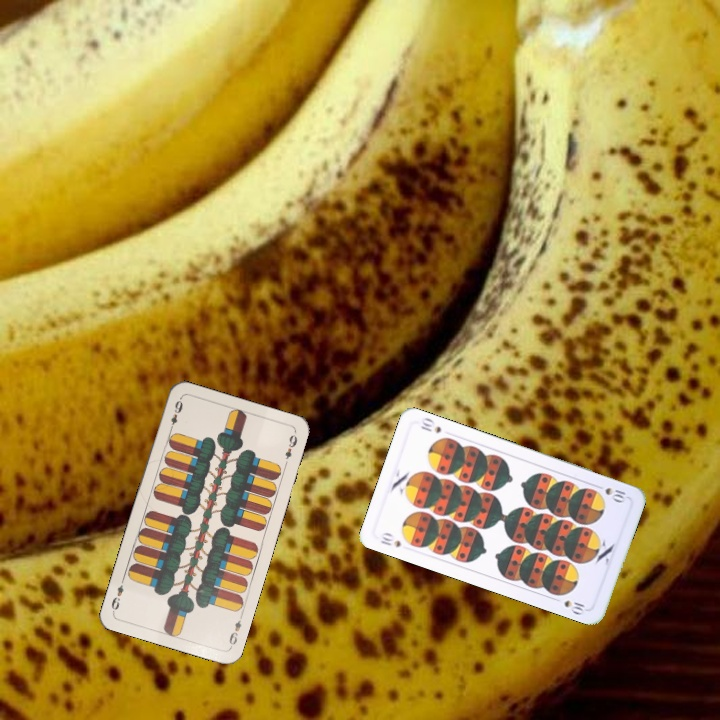E9: (225, 610, 245, 650), (165, 395, 185, 434)
S10: (591, 480, 628, 505), (376, 528, 403, 550)
